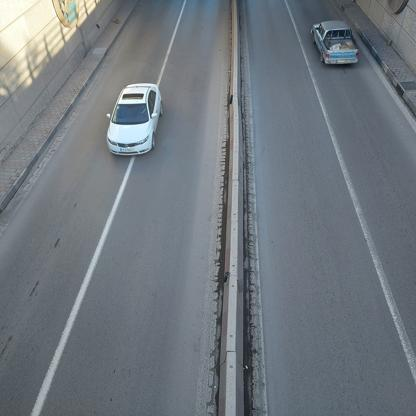Car: (106, 80, 158, 155), (312, 22, 365, 68)
